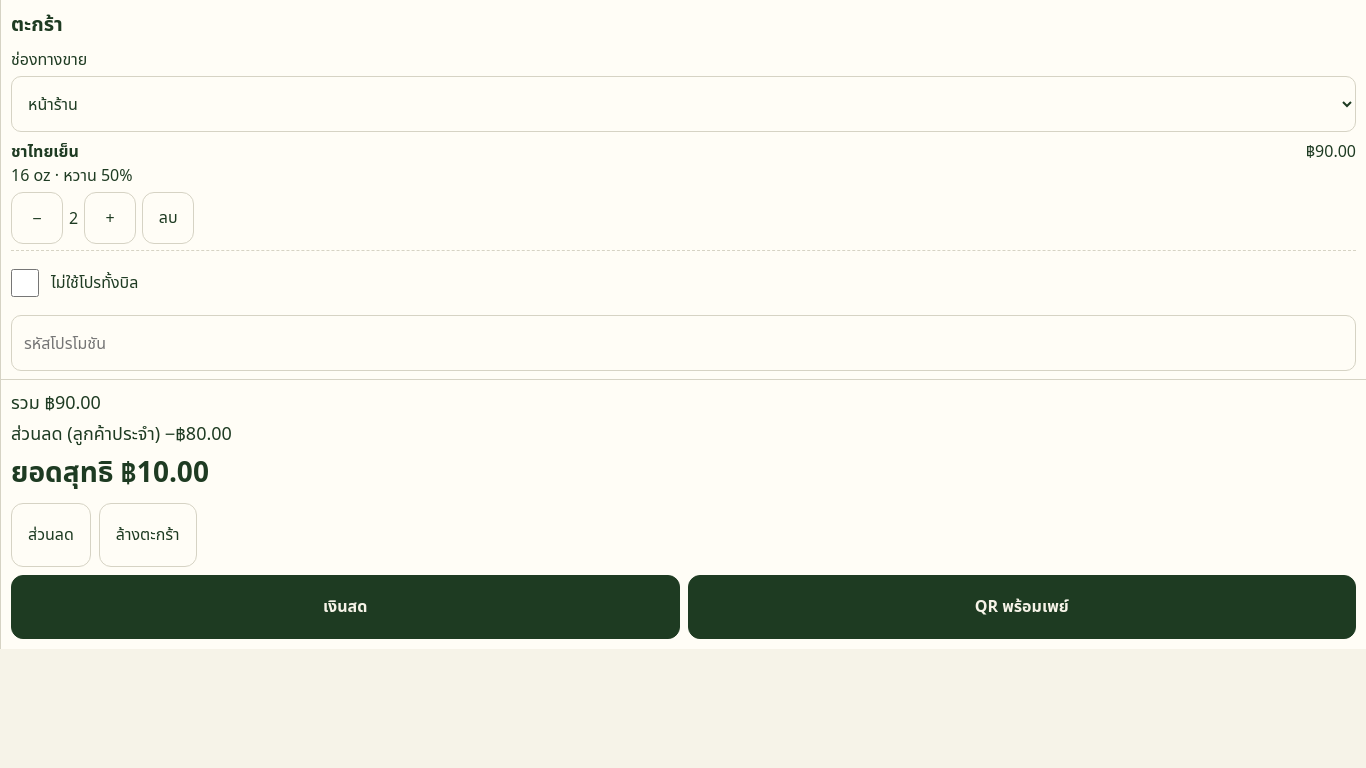
Test: CartPanel › review I4: a bill discount that clamps the ฿90 total to ฿0 disables paying and warns in Thai
Expected: the text with test id "cart-total" shows "฿10", [121,452,209,490]
Expected: the button with test id "pay-cash" is enabled, [11,575,680,639]
Click the button with test id "cart-dec-0" at (37, 218), box [11,192,63,244]
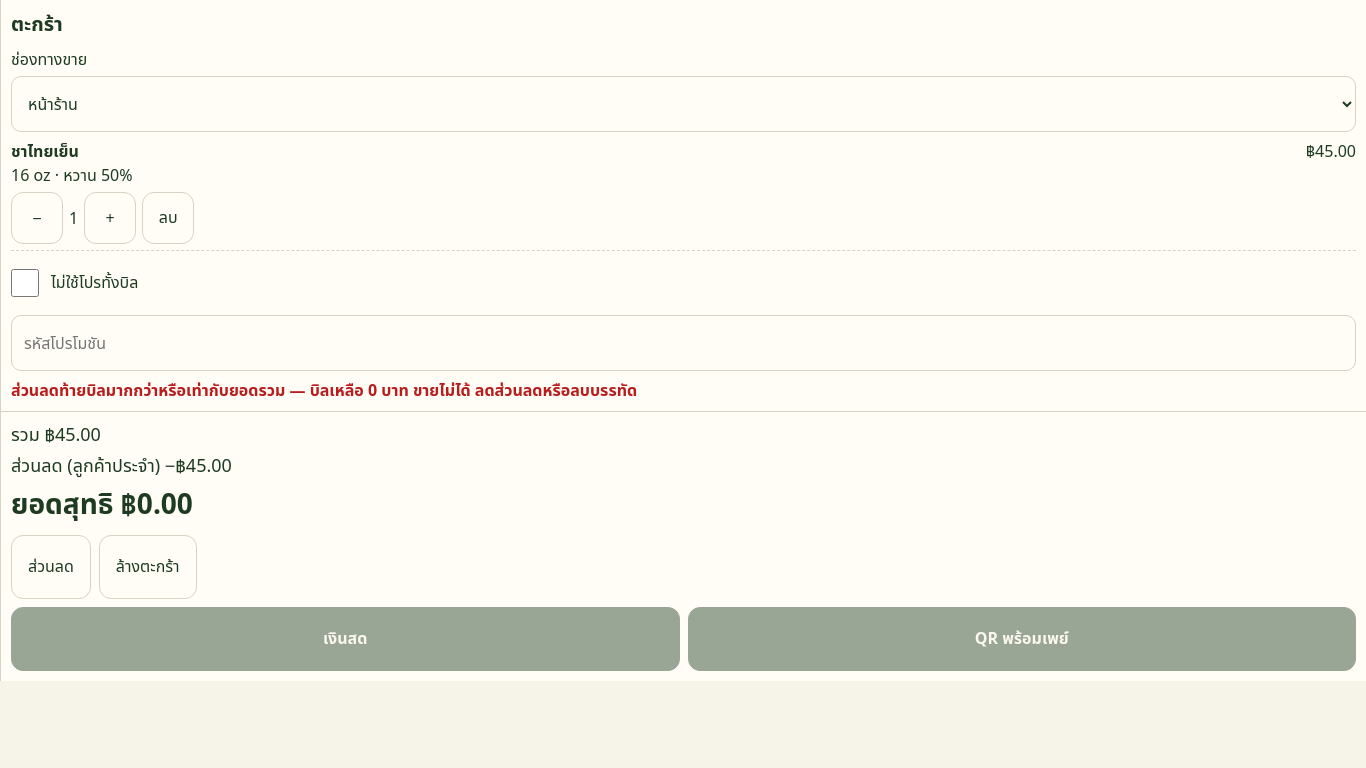
Now the message with test id "cart-discount-too-big" is shown, box [11,379,637,401]
Now the text with test id "cart-total" shows "฿0", box [121,484,193,522]
Now the button with test id "pay-cash" is disabled, box [11,607,680,671]
